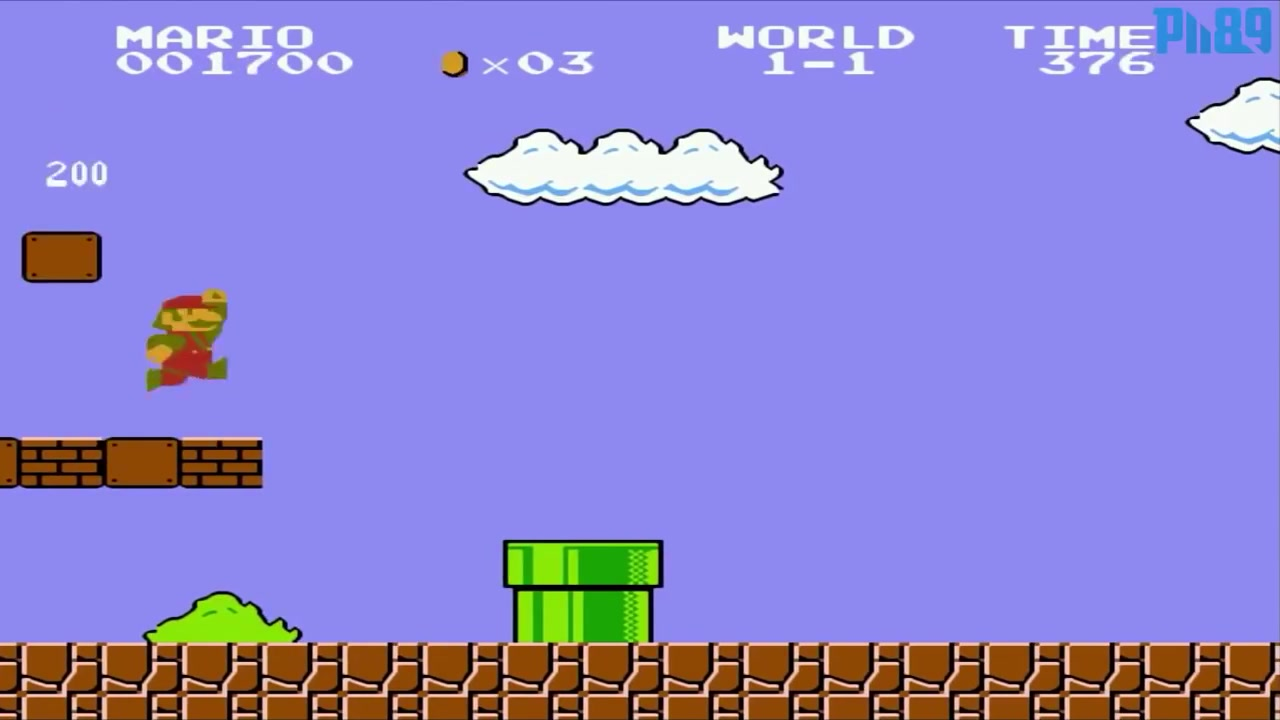mario: (140, 281, 234, 394)
